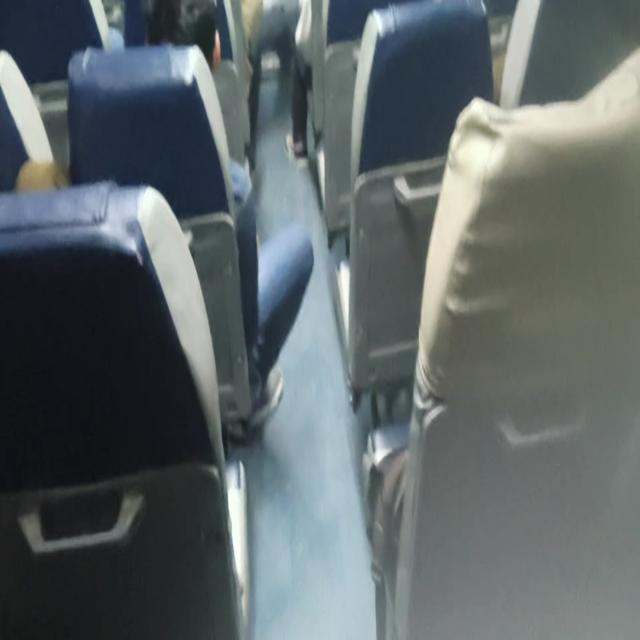person: (370, 45, 640, 638), (146, 1, 314, 430), (146, 0, 253, 202), (190, 9, 252, 165), (285, 0, 313, 161)
